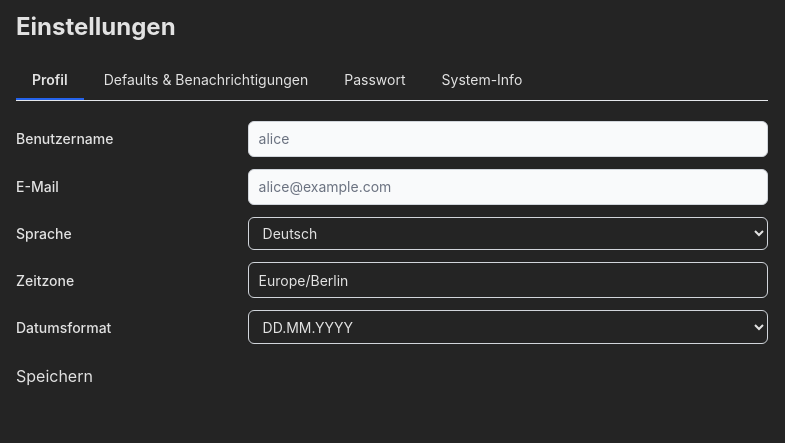
Test: SettingsView › switches to defaults tab and shows currency field
The image size is (785, 443).
Click the tab "Defaults & Benachrichtigungen" at [206, 80], box top-left (88, 61), bottom-right (324, 100)
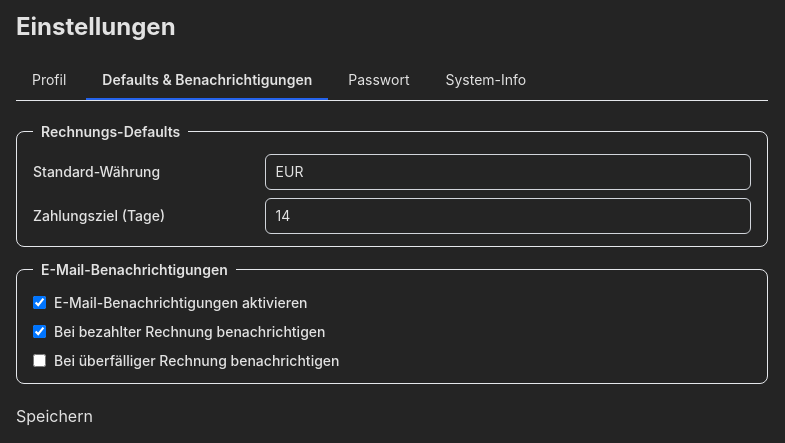
Now the field with id "default_currency" holds "EUR", box top-left (265, 154), bottom-right (751, 190)
